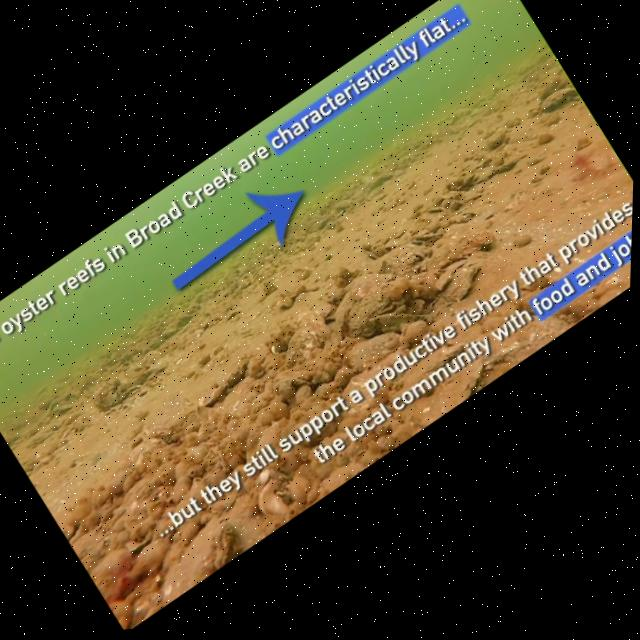Oyster-Closed: (320, 263, 412, 353), (438, 98, 478, 136)
Oyster-Indeterminate: (408, 195, 505, 283), (408, 354, 491, 426), (173, 514, 250, 588), (368, 282, 444, 352), (339, 316, 413, 386), (269, 316, 336, 382), (364, 229, 431, 294), (138, 388, 204, 453), (118, 525, 180, 582), (284, 292, 339, 354), (210, 368, 268, 426), (248, 468, 302, 525), (433, 257, 488, 310), (118, 427, 170, 478), (87, 539, 137, 587), (533, 78, 582, 125), (87, 372, 134, 419), (209, 353, 257, 396), (106, 588, 146, 631), (584, 276, 629, 314), (188, 379, 229, 420), (562, 284, 601, 325), (477, 120, 518, 159), (75, 533, 114, 571), (358, 162, 399, 198), (529, 67, 568, 104), (444, 199, 483, 235), (507, 222, 542, 259), (121, 522, 159, 556), (50, 388, 87, 421), (468, 159, 503, 193), (32, 386, 64, 417), (116, 354, 147, 385), (587, 270, 619, 300), (294, 227, 326, 256), (267, 228, 299, 257), (453, 180, 483, 209), (480, 145, 509, 174), (329, 189, 358, 217), (422, 195, 451, 223), (443, 169, 470, 195), (171, 307, 198, 333), (182, 326, 210, 351), (533, 125, 559, 151), (439, 181, 466, 206), (205, 305, 231, 328), (573, 131, 597, 155), (188, 312, 213, 335), (59, 517, 81, 542), (310, 211, 336, 232), (438, 192, 461, 214), (144, 332, 166, 352), (124, 370, 147, 389), (159, 323, 180, 343), (34, 381, 54, 400), (118, 325, 137, 344), (190, 323, 206, 340)
Oyster-Open: (137, 357, 169, 385), (126, 380, 143, 396)
